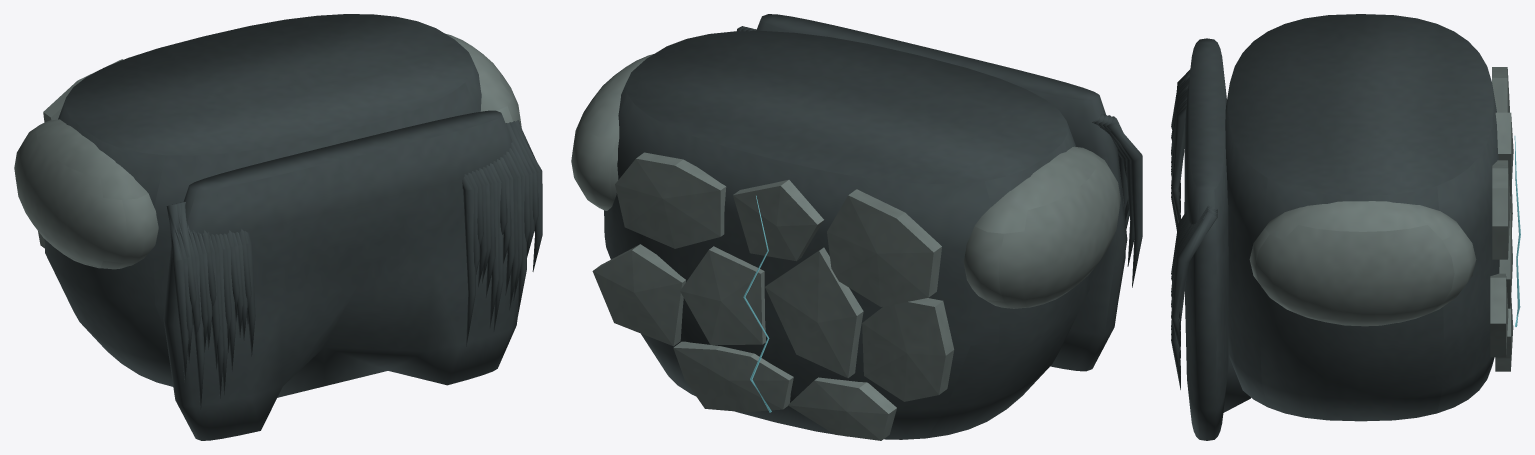
The model's file is chest_lod0.glb.
The picture shows the model from 3 angles, left to right: view 1: azimuth 30°, elevation 25°; view 2: azimuth 150°, elevation 25°; view 3: azimuth 270°, elevation 25°; orthographic projection. The views are drawn at different scales.
Parts seen in each view (by area): view 1: dormin_chest_LOD0; view 2: dormin_chest_LOD0; view 3: dormin_chest_LOD0.
Part boxes in pixels (left/top/right/bottom): dormin_chest_LOD0: left=14, top=14, right=542, bottom=440; dormin_chest_LOD0: left=571, top=14, right=1142, bottom=440; dormin_chest_LOD0: left=1171, top=14, right=1520, bottom=440.
Bounding box in the file's own units: 5.48 × 2.99 × 3.61.
3 materials, 2 textured.
